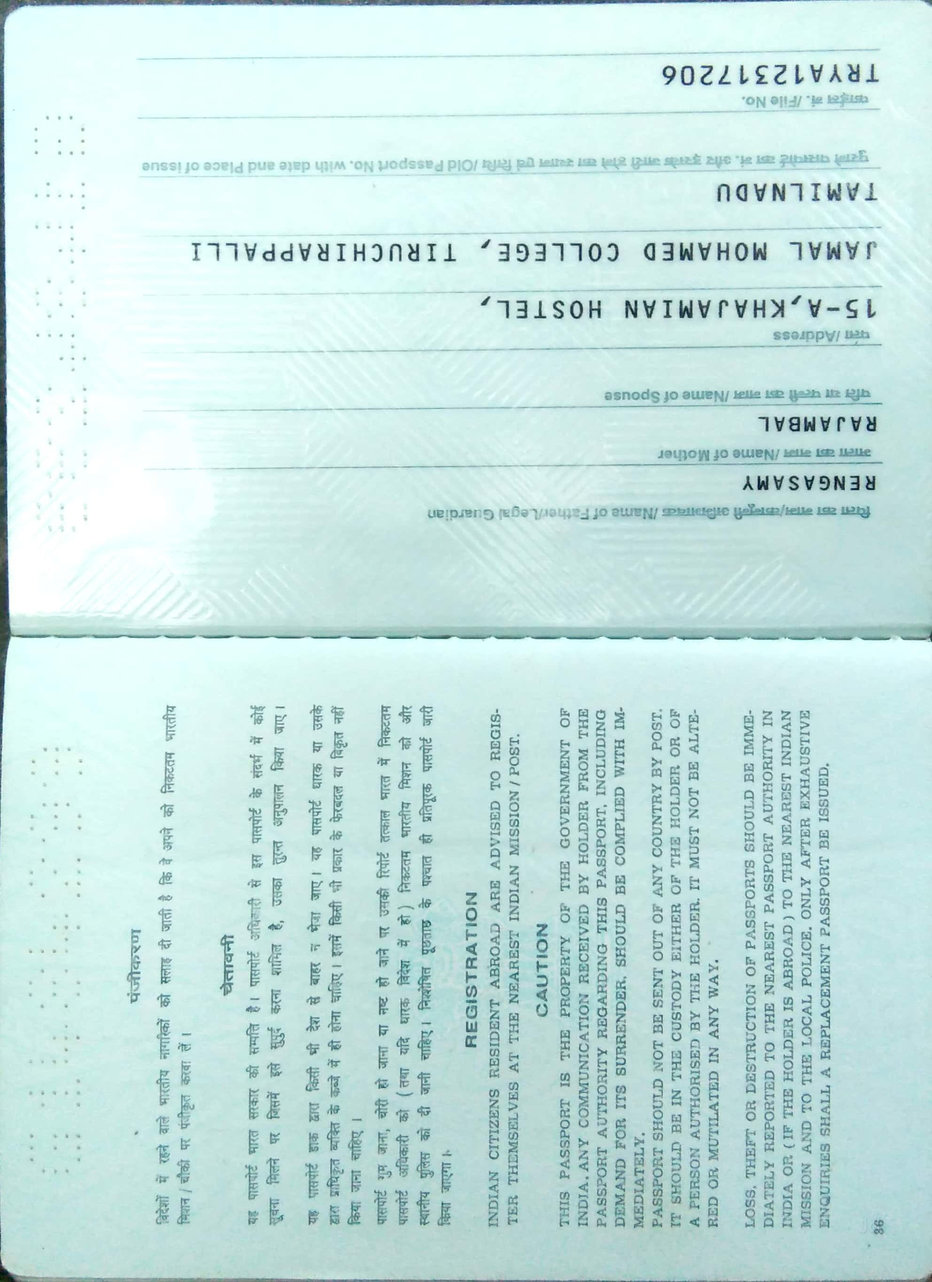File_no: (651, 56, 881, 92)
address: (164, 181, 893, 327)
father_name: (733, 461, 894, 505)
mother_name: (738, 402, 895, 446)
